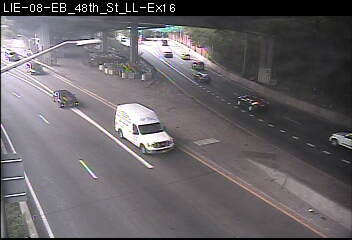neg: (114, 53, 134, 79), (62, 98, 79, 120), (141, 61, 155, 80)
